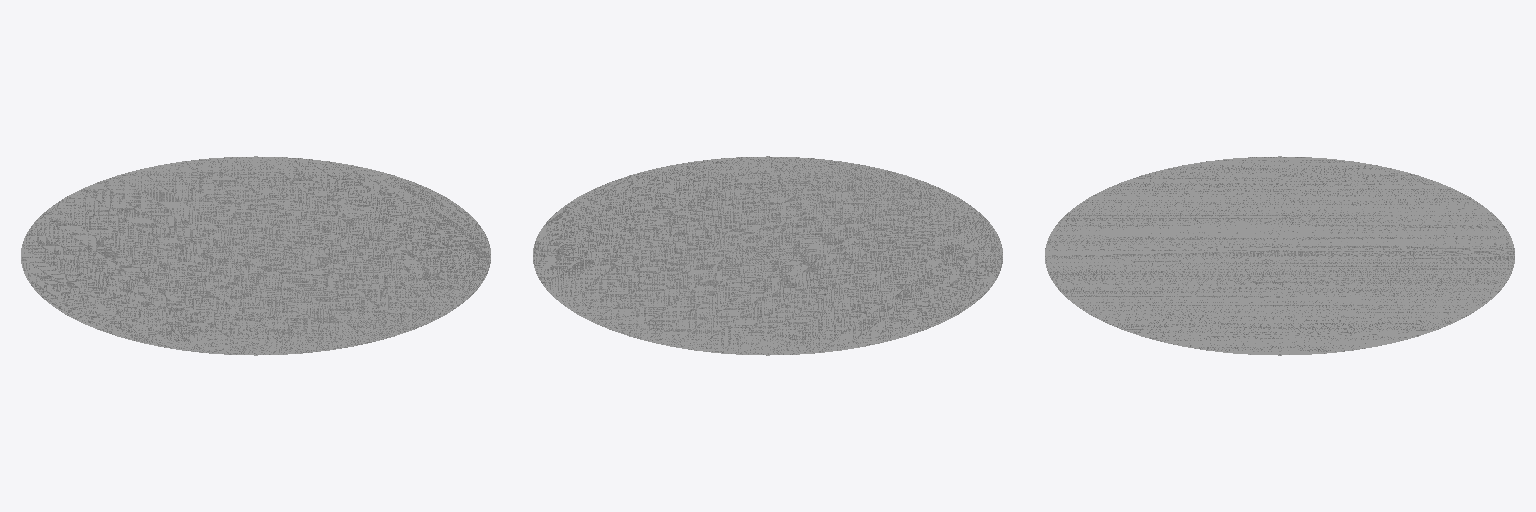
3 renders of one model, left to right at view 1: azimuth 30°, elevation 25°; view 2: azimuth 150°, elevation 25°; view 3: azimuth 270°, elevation 25°, orthographic.
Visible parts, largest first — view 1: #ID205; view 2: #ID205; view 3: #ID205.
Part boxes in pixels (bbox=[...]): #ID205: bbox=[21, 156, 490, 355]; #ID205: bbox=[533, 156, 1002, 355]; #ID205: bbox=[1045, 156, 1514, 355].
Size of the model in its own units: 1.31 by 0 by 1.31.
2 materials, 1 textured.